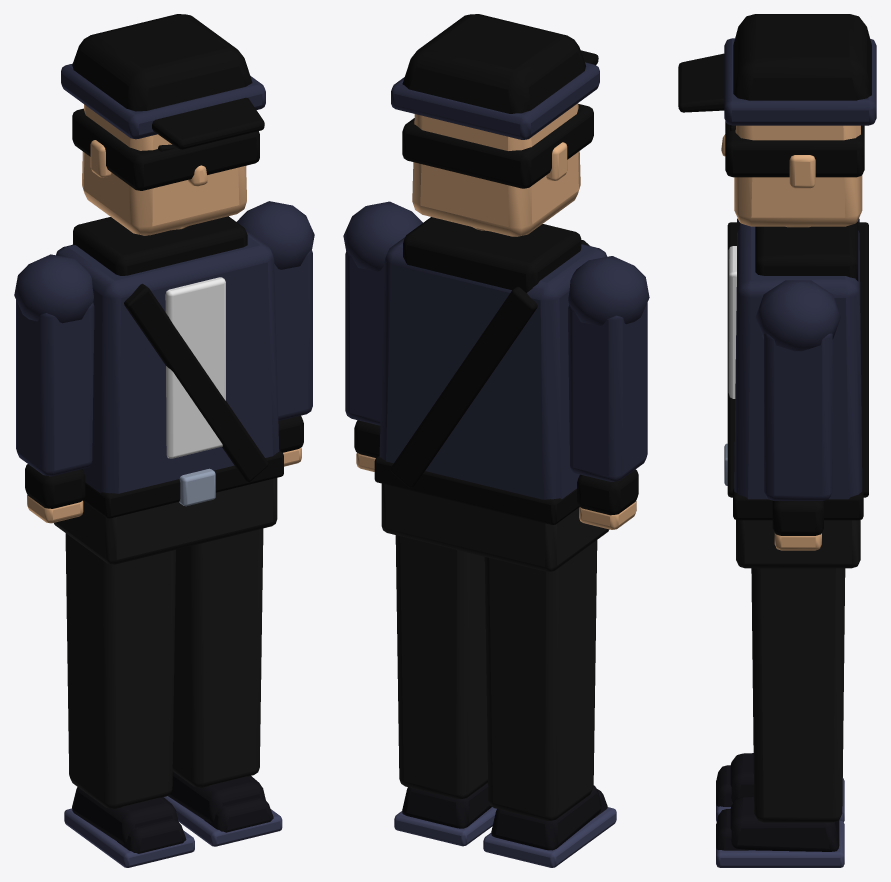
Rendered from thug.glb.
3 views of the same model, side by side, from view 1: azimuth 30°, elevation 25°; view 2: azimuth 150°, elevation 25°; view 3: azimuth 270°, elevation 25° (orthographic). The views are drawn at different scales.
Visible parts, largest first — view 1: JacketTorso, LegL_Trouser, LegR_Trouser, BeanieBase, ArmL_Sleeve, Pelvis, Cranium, TeeCollar, ShoulderStrap, JacketCollar, BanditMask, ArmR_Sleeve (+15 smaller); view 2: JacketTorso, LegL_Trouser, LegR_Trouser, BeanieBase, ArmL_Sleeve, Cranium, Pelvis, JacketCollar, ShoulderStrap, BanditMask, ArmR_Sleeve, BeanieFold (+10 smaller); view 3: LegR_Trouser, JacketTorso, BeanieBase, ArmR_Sleeve, Cranium, JacketCollar, BanditMask, BeanieFold, Pelvis, ArmR_Shoulder, LegR_ShoeUpper, ShoulderStrap (+10 smaller).
Boxes of the visible parts, left/top/right/bottom form: JacketTorso: left=56, top=231, right=279, bottom=493; LegL_Trouser: left=65, top=533, right=175, bottom=808; LegR_Trouser: left=172, top=528, right=263, bottom=787; BeanieBase: left=72, top=14, right=252, bottom=111; ArmL_Sleeve: left=16, top=300, right=94, bottom=476; Pelvis: left=54, top=478, right=277, bottom=564; Cranium: left=82, top=104, right=246, bottom=235; TeeCollar: left=165, top=277, right=225, bottom=458; ShoulderStrap: left=124, top=283, right=268, bottom=481; JacketCollar: left=73, top=216, right=247, bottom=275; BanditMask: left=72, top=108, right=259, bottom=190; ArmR_Sleeve: left=274, top=249, right=312, bottom=420; JacketTorso: left=379, top=237, right=607, bottom=499; LegL_Trouser: left=484, top=540, right=597, bottom=820; LegR_Trouser: left=395, top=535, right=487, bottom=799; BeanieBase: left=402, top=14, right=585, bottom=113; ArmL_Sleeve: left=568, top=303, right=647, bottom=481; Cranium: left=412, top=103, right=580, bottom=236; Pelvis: left=381, top=483, right=609, bottom=571; JacketCollar: left=403, top=217, right=581, bottom=292; ShoulderStrap: left=390, top=240, right=589, bottom=487; BanditMask: left=402, top=104, right=593, bottom=188; ArmR_Sleeve: left=345, top=250, right=384, bottom=425; BeanieFold: left=391, top=62, right=599, bottom=139; LegR_Trouser: left=751, top=568, right=845, bottom=822; JacketTorso: left=734, top=218, right=862, bottom=499; BeanieBase: left=733, top=14, right=871, bottom=100; ArmR_Sleeve: left=764, top=333, right=832, bottom=500; Cranium: left=734, top=125, right=862, bottom=226; JacketCollar: left=755, top=220, right=858, bottom=281; BanditMask: left=725, top=121, right=864, bottom=177; BeanieFold: left=724, top=38, right=876, bottom=125; Pelvis: left=736, top=520, right=860, bottom=568; ArmR_Shoulder: left=755, top=280, right=840, bottom=351; LegR_ShoeUpper: left=730, top=796, right=839, bottom=851; ShoulderStrap: left=727, top=222, right=868, bottom=497.
Bounding box in the file's own units: 0.7897 × 2.04 × 0.4622.
